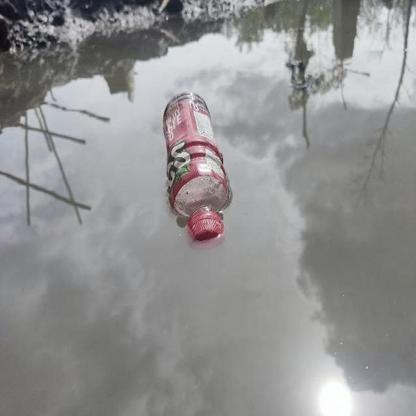plastic bottle: (162, 93, 232, 239)
